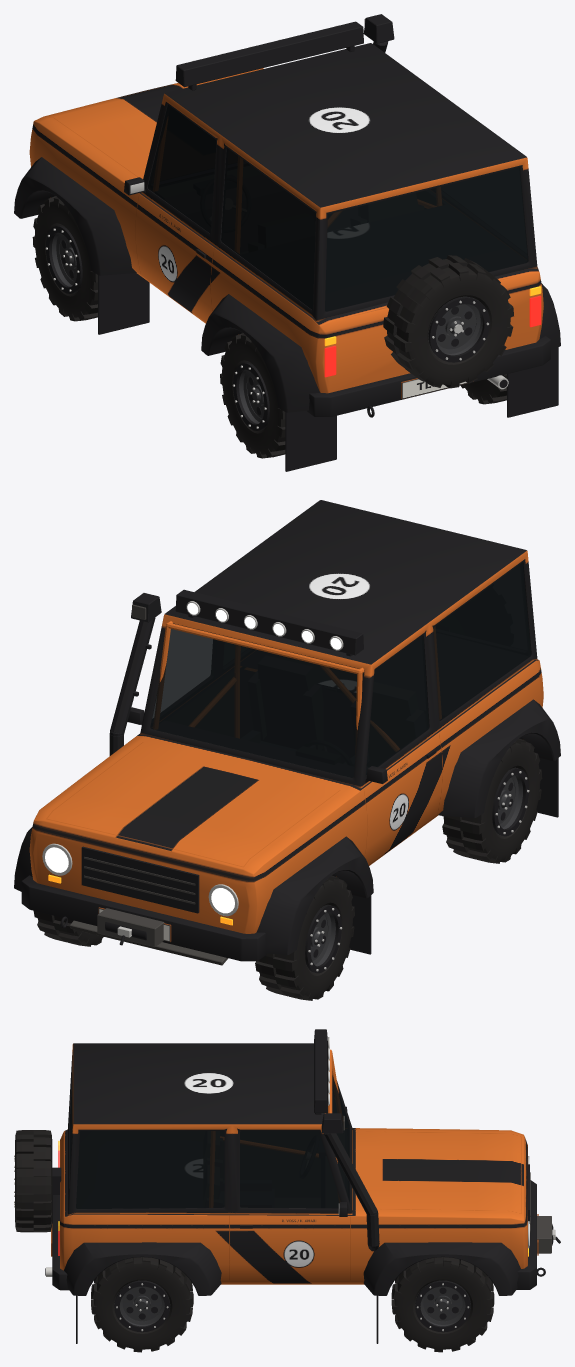
Rendered from CAR-020_Export.fbx.
3 views of the same model, one above another, from view 1: azimuth 30°, elevation 25°; view 2: azimuth 150°, elevation 25°; view 3: azimuth 270°, elevation 25° (orthographic). The views are drawn at different scales.
Visible parts, largest first — view 1: CAR-020_Body, CAR-020_Glass, CAR-020_SpareWheel, CAR-020_MudFlaps, CAR-020_Accessories, CAR-020_Bumper_Rear, CAR-020_Wheel_RL_Tire, CAR-020_Wheel_FL_Tire, CAR-020_Wheel_FL_Rim, CAR-020_Wheel_RL_Rim, CAR-020_Lights, CAR-020_Trim (+1 smaller); view 2: CAR-020_Body, CAR-020_Glass, CAR-020_Accessories, CAR-020_Bumper_Front, CAR-020_Trim, CAR-020_Wheel_RL_Tire, CAR-020_Wheel_FL_Tire, CAR-020_MudFlaps, CAR-020_Interior, CAR-020_Wheel_RL_Rim, CAR-020_Wheel_FL_Rim, CAR-020_Lights (+1 smaller); view 3: CAR-020_Body, CAR-020_Glass, CAR-020_Wheel_FR_Tire, CAR-020_Wheel_RR_Tire, CAR-020_SpareWheel, CAR-020_Accessories, CAR-020_Wheel_RR_Rim, CAR-020_Wheel_FR_Rim, CAR-020_Bumper_Front, CAR-020_Bumper_Rear, CAR-020_Trim.
Part boxes in pixels (x1,y1,x2,y2): CAR-020_Body: (14,43,560,412); CAR-020_Glass: (148,105,528,311); CAR-020_SpareWheel: (383,255,513,388); CAR-020_MudFlaps: (98,273,558,471); CAR-020_Accessories: (175,14,394,90); CAR-020_Bumper_Rear: (307,336,550,416); CAR-020_Wheel_RL_Tire: (220,333,285,458); CAR-020_Wheel_FL_Tire: (32,196,97,321); CAR-020_Wheel_FL_Rim: (45,225,82,293); CAR-020_Wheel_RL_Rim: (232,362,269,430); CAR-020_Lights: (324,286,541,377); CAR-020_Trim: (196,249,508,417); CAR-020_Body: (14,500,560,954); CAR-020_Glass: (150,562,531,777); CAR-020_Accessories: (70,589,363,965); CAR-020_Bumper_Front: (21,875,266,961); CAR-020_Trim: (60,749,436,941); CAR-020_Wheel_RL_Tire: (442,738,542,863); CAR-020_Wheel_FL_Tire: (255,875,354,1000); CAR-020_MudFlaps: (349,758,558,954); CAR-020_Interior: (153,621,364,777); CAR-020_Wheel_RL_Rim: (492,767,529,836); CAR-020_Wheel_FL_Rim: (305,905,342,973); CAR-020_Lights: (42,669,541,925); CAR-020_Body: (60,1043,527,1295); CAR-020_Glass: (69,1074,349,1208); CAR-020_Wheel_FR_Tire: (391,1257,494,1352); CAR-020_Wheel_RR_Tire: (91,1257,193,1352); CAR-020_SpareWheel: (14,1130,61,1232); CAR-020_Accessories: (314,1029,560,1253); CAR-020_Wheel_RR_Rim: (114,1280,170,1332); CAR-020_Wheel_FR_Rim: (415,1280,470,1332); CAR-020_Bumper_Front: (516,1180,536,1289); CAR-020_Bumper_Rear: (52,1195,68,1290); CAR-020_Trim: (45,1164,545,1276).
Bounding box in the file's own units: 2 × 2.04 × 4.26.
17 materials, 2 textured.
